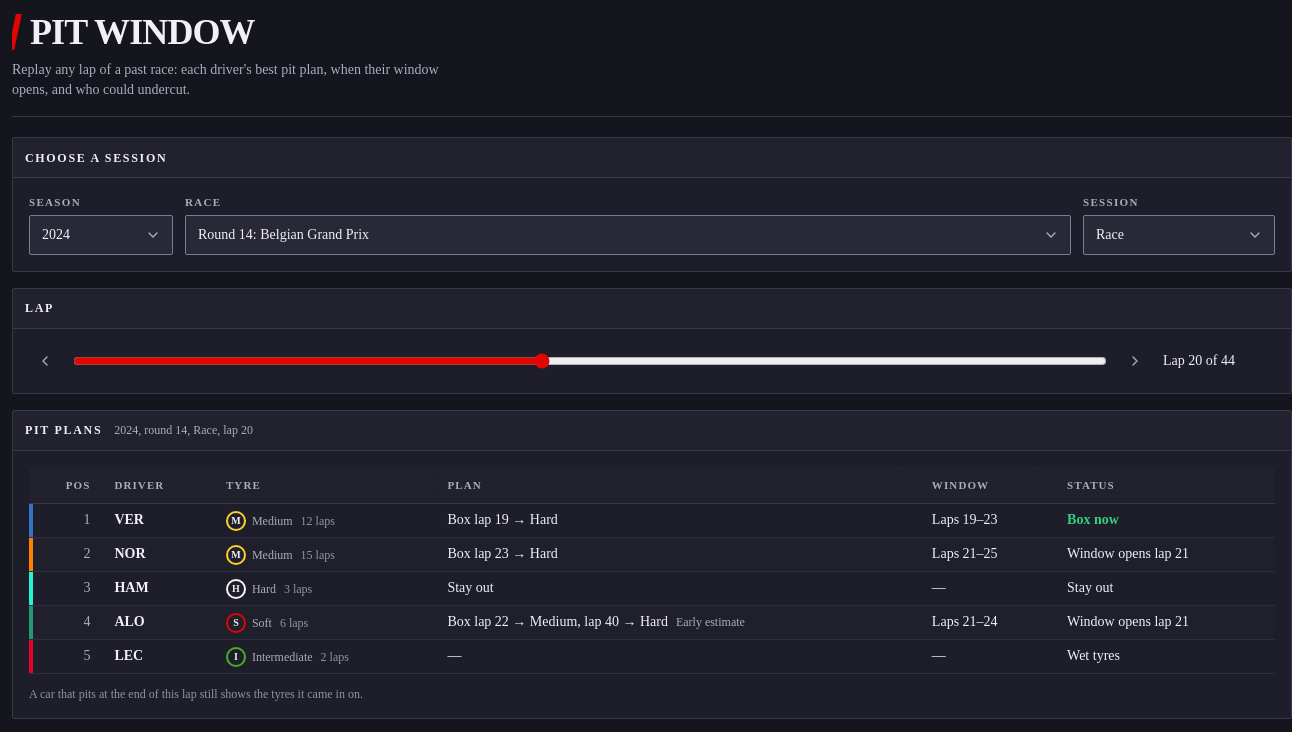
Test: PitWindowPage › starts the new race afresh when another race is picked
The image size is (1292, 732).
Expected: the text "Lap 20 of 44" is shown, [1163, 352, 1235, 368]
Select "Round 15: Dutch Grand Prix" in the dropdown labelled "Race" at (628, 234), box [185, 214, 1071, 254]
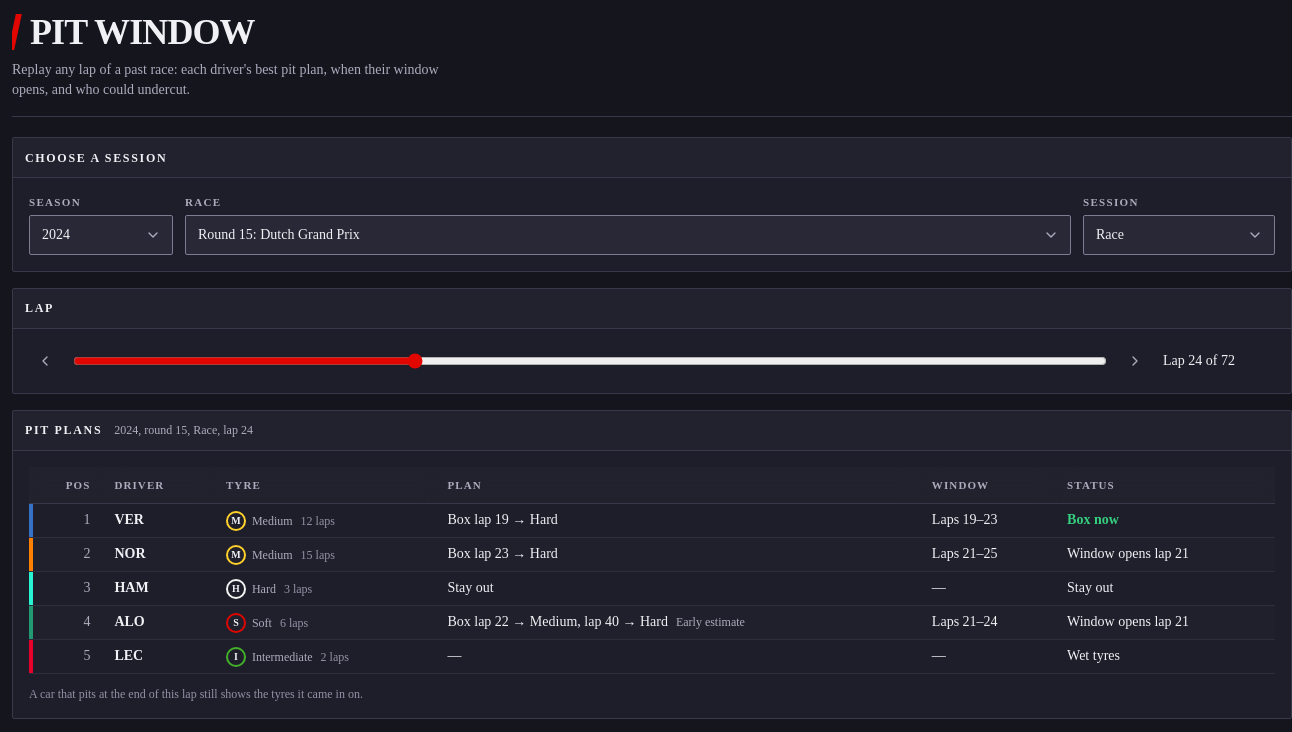
Expected: the text "Lap 24 of 72" is shown, [1163, 352, 1235, 368]
